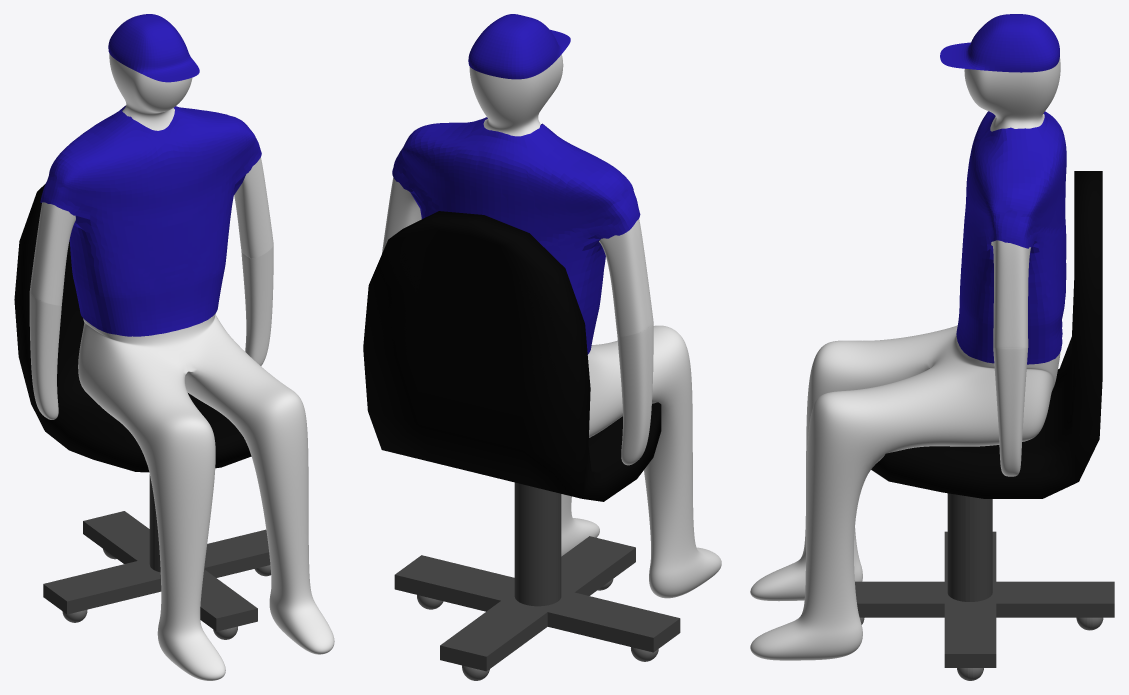
File: Player2onChair.glb
3 views of the same model, side by side, from view 1: azimuth 30°, elevation 25°; view 2: azimuth 150°, elevation 25°; view 3: azimuth 270°, elevation 25° (orthographic). The views are drawn at different scales.
Visible parts, largest first — view 1: Charcter, Shirt, Seat, Leg, Hat, Leg.001, Wheels; view 2: Seat, Charcter, Shirt, Leg, Leg.001, Hat, Wheels; view 3: Charcter, Shirt, Seat, Leg, Hat, Leg.001, Wheels.
Boxes of the visible parts, <box> form: Charcter: <box>29,53,334,680</box>; Shirt: <box>40,105,261,336</box>; Seat: <box>14,184,251,472</box>; Leg: <box>43,511,270,631</box>; Hat: <box>108,14,199,82</box>; Leg.001: <box>149,474,160,572</box>; Wheels: <box>62,549,270,639</box>; Seat: <box>363,211,661,501</box>; Charcter: <box>382,54,721,598</box>; Shirt: <box>392,117,640,354</box>; Leg: <box>394,536,680,671</box>; Leg.001: <box>514,482,561,606</box>; Hat: <box>468,14,570,79</box>; Wheels: <box>417,579,658,680</box>; Charcter: <box>750,57,1060,660</box>; Shirt: <box>956,111,1066,364</box>; Seat: <box>871,171,1102,498</box>; Leg: <box>855,531,1114,667</box>; Hat: <box>940,14,1059,72</box>; Leg.001: <box>947,493,992,601</box>; Wheels: <box>860,617,1103,680</box>.
Bounding box in the file's own units: 2.09 × 4.74 × 2.56.
